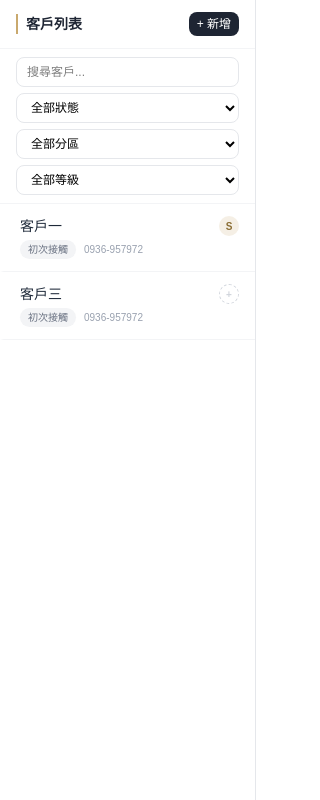
Scenario: ClientList — 客戶分級標籤 › 篩選器選「未分級」時，只顯示沒有 grade 欄位的客戶
Select "未分級" in the dropdown with test id "grade-filter": [128, 180] box [16,165,239,195]
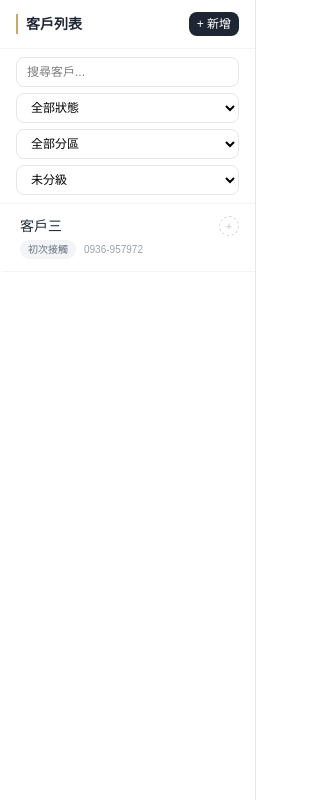
Expected: the text "客戶三" is shown, [20,216,62,236]
Expected: the text "客戶一" is gone
